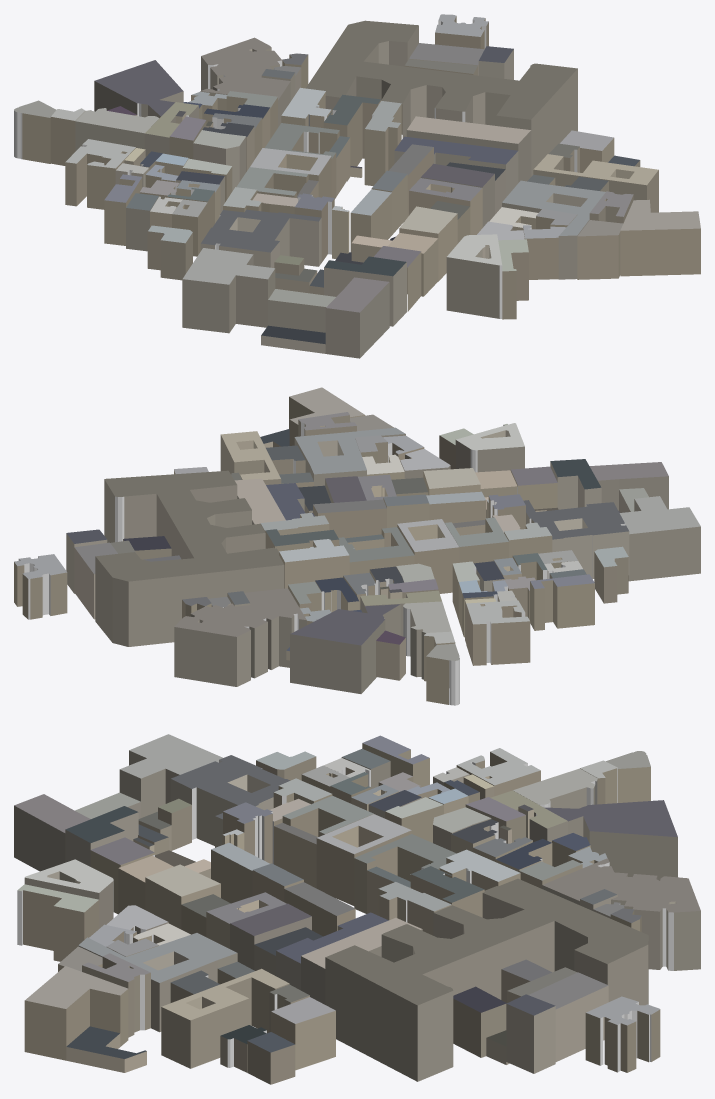
3 renders of one model, top to bottom at view 1: azimuth 30°, elevation 25°; view 2: azimuth 150°, elevation 25°; view 3: azimuth 270°, elevation 25°, orthographic. The views are drawn at different scales.
Parts seen in each view (by area): view 1: tuile; view 2: tuile; view 3: tuile.
Boxes of the visible parts, box(x1,y1,x2,y2) form: tuile: box(14, 14, 700, 358); tuile: box(14, 387, 700, 705); tuile: box(14, 734, 700, 1084).
Bounding box in the file's own units: 282 × 40.62 × 293.
